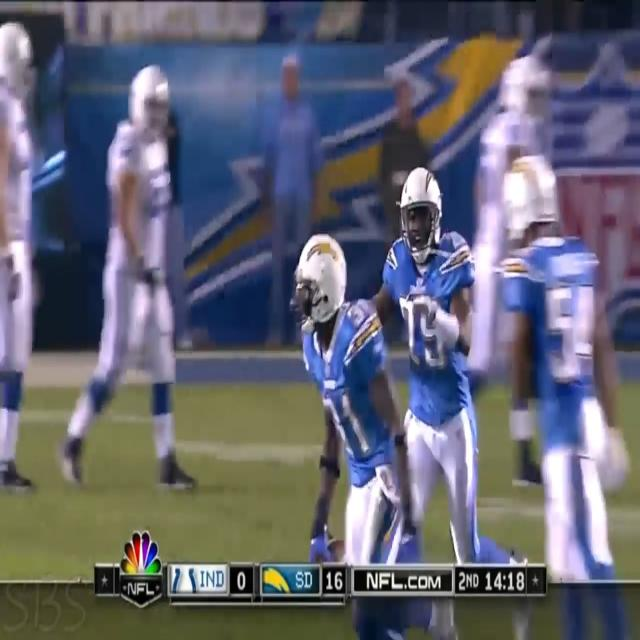players: (486, 159, 620, 616), (72, 53, 196, 476), (382, 197, 489, 640), (302, 249, 397, 615), (0, 11, 54, 491)
